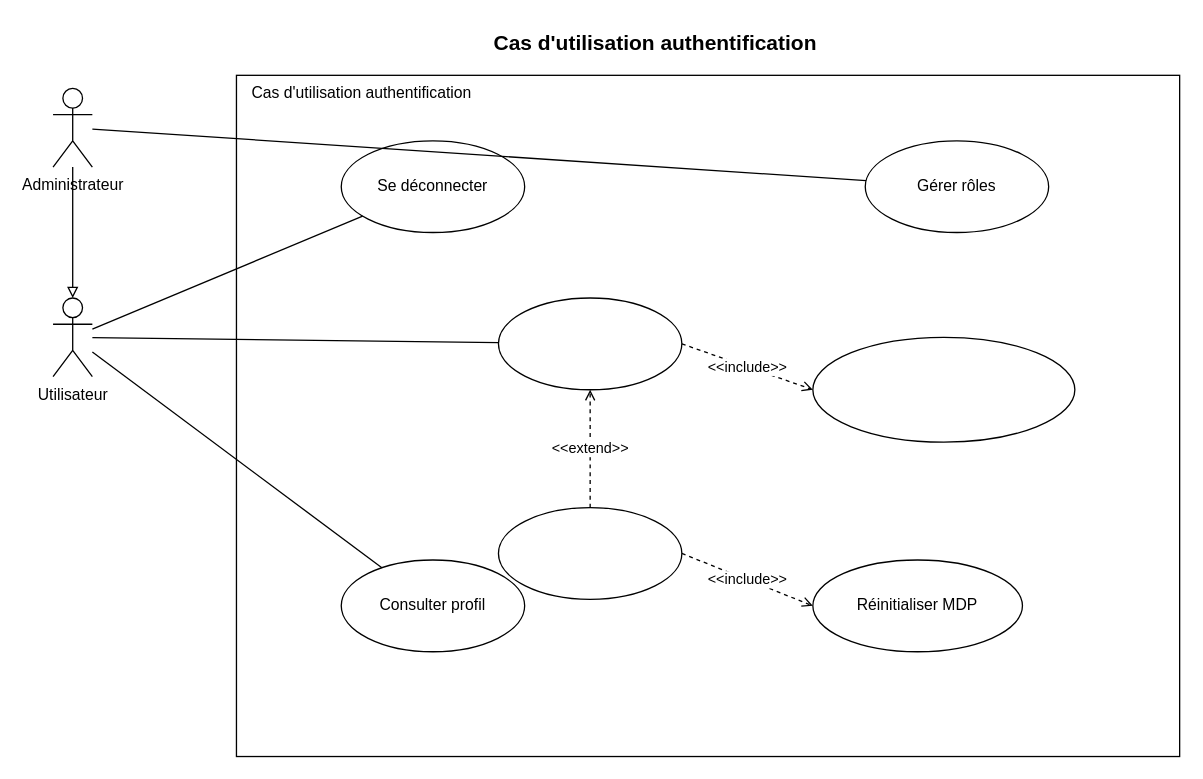
Image size: 1203x779. Some labels were removed from this diagram. The shapes that lost their labels are listed below. From the top down, each one's box as (x1, y1, x2, y2) in pixels, then its label:
(497, 297, 682, 390): Se connecter
(812, 336, 1075, 442): Se rediriger vers le dashboard
(497, 506, 682, 599): mot passe oublié
